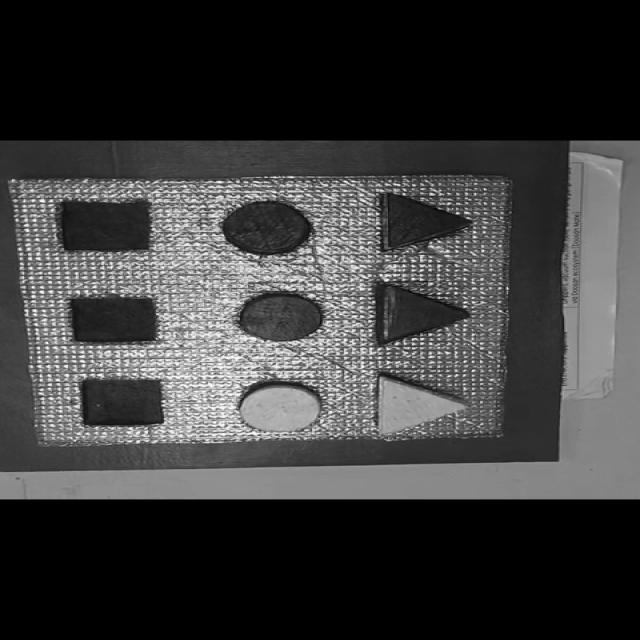bcircle: (222, 200, 314, 254)
btriangle: (378, 192, 472, 252)
mtcube: (56, 199, 155, 252), (67, 294, 162, 344), (78, 378, 168, 428)
rcircle: (237, 292, 323, 340)
rtriangle: (374, 284, 472, 344)
wb: (7, 172, 515, 448)
ycircle: (235, 380, 326, 433)
ytriangle: (376, 373, 472, 435)
